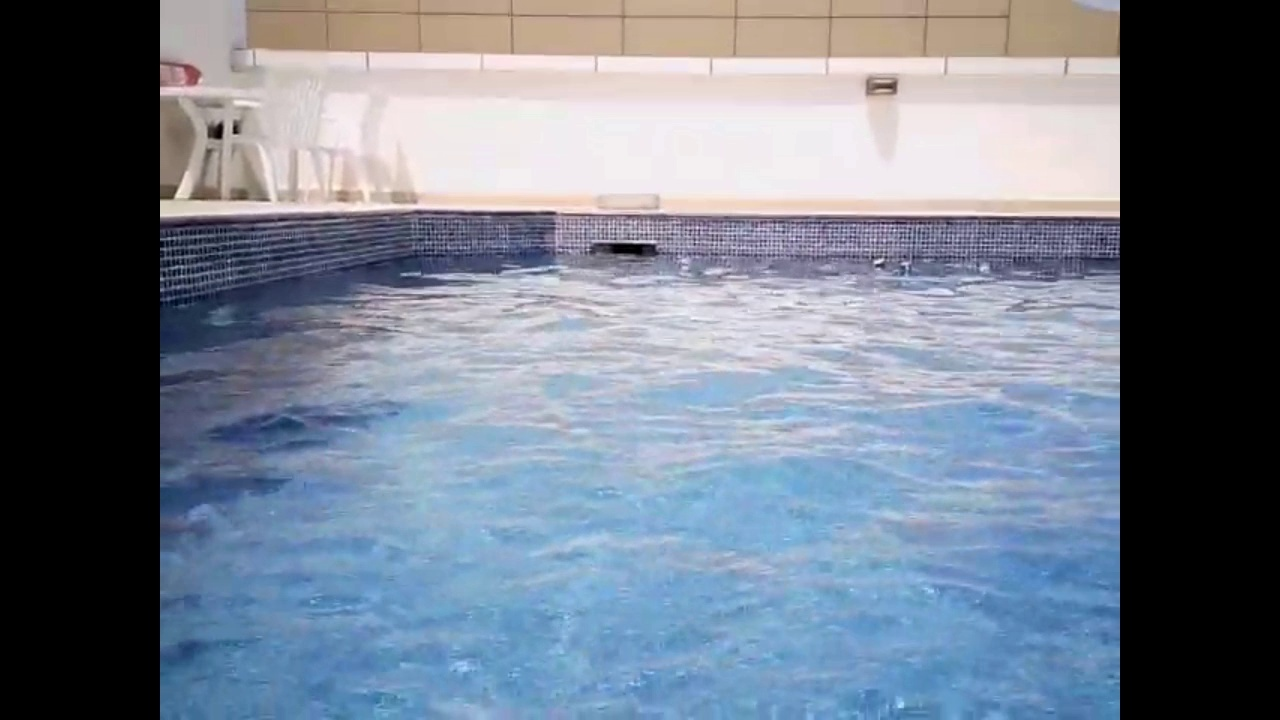debris: (869, 252, 890, 270), (896, 259, 914, 279), (672, 255, 694, 271)
